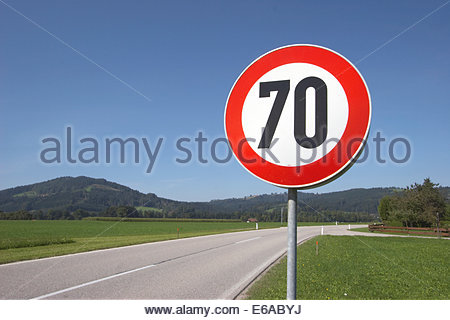Speed_limit_70km: (223, 44, 372, 188)
